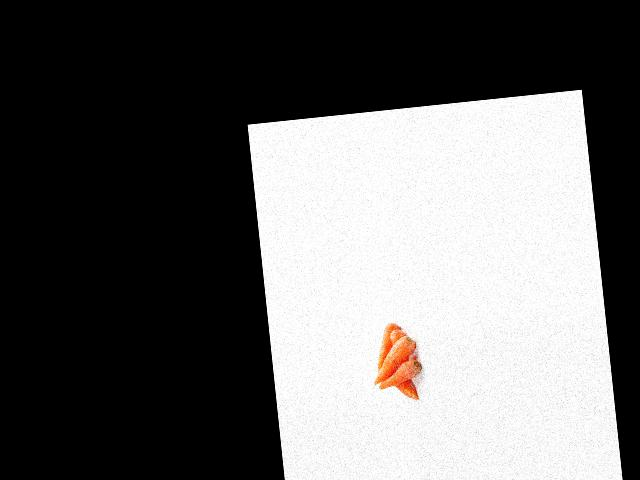carrot: (377, 357, 424, 390)
